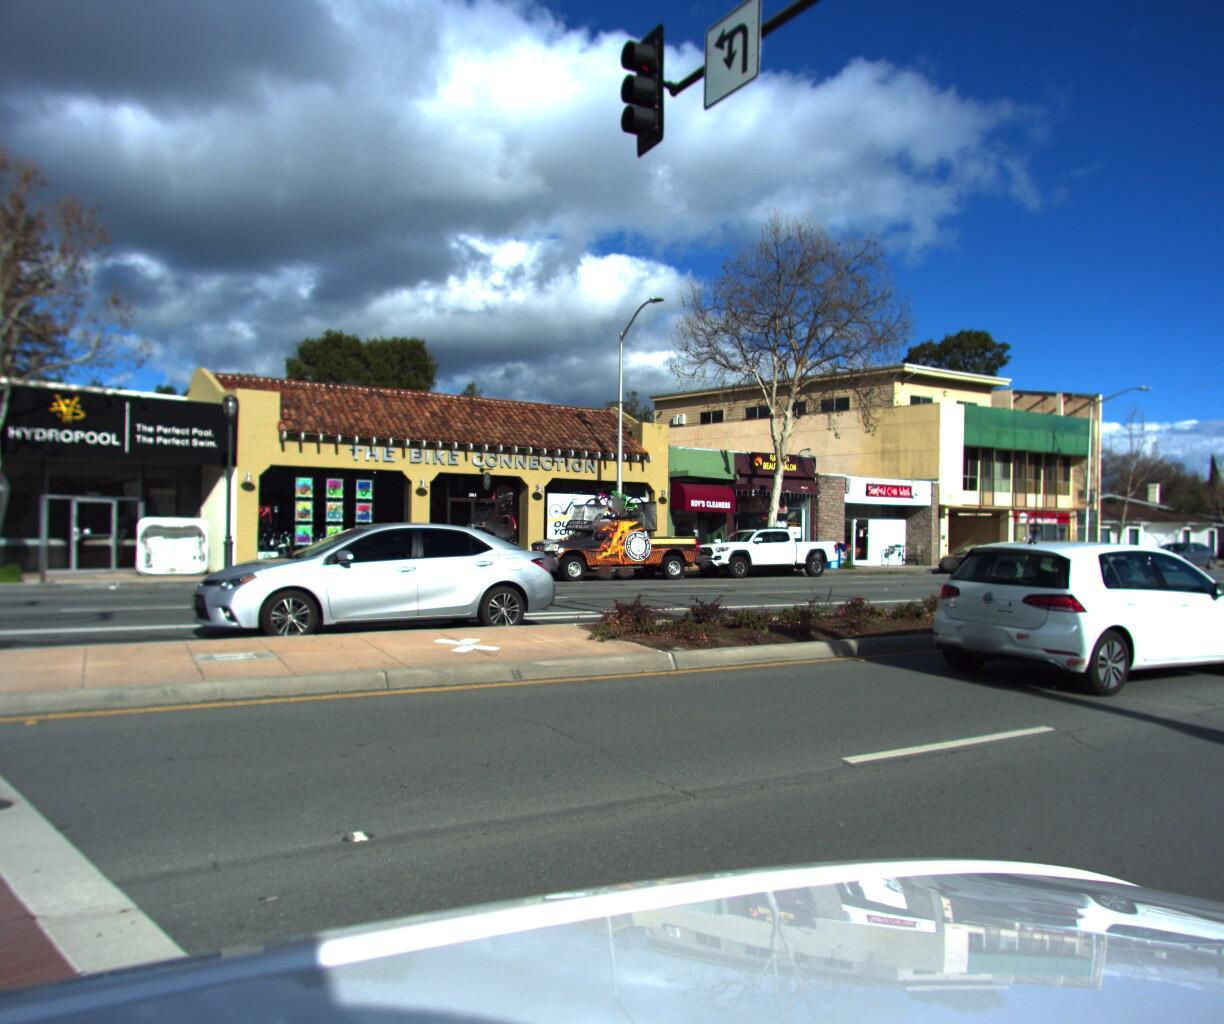car: (174, 507, 579, 654), (901, 526, 1224, 701), (511, 478, 709, 580), (359, 528, 533, 584), (681, 519, 844, 577), (921, 536, 1034, 570), (1133, 536, 1220, 567), (1220, 538, 1224, 563)
